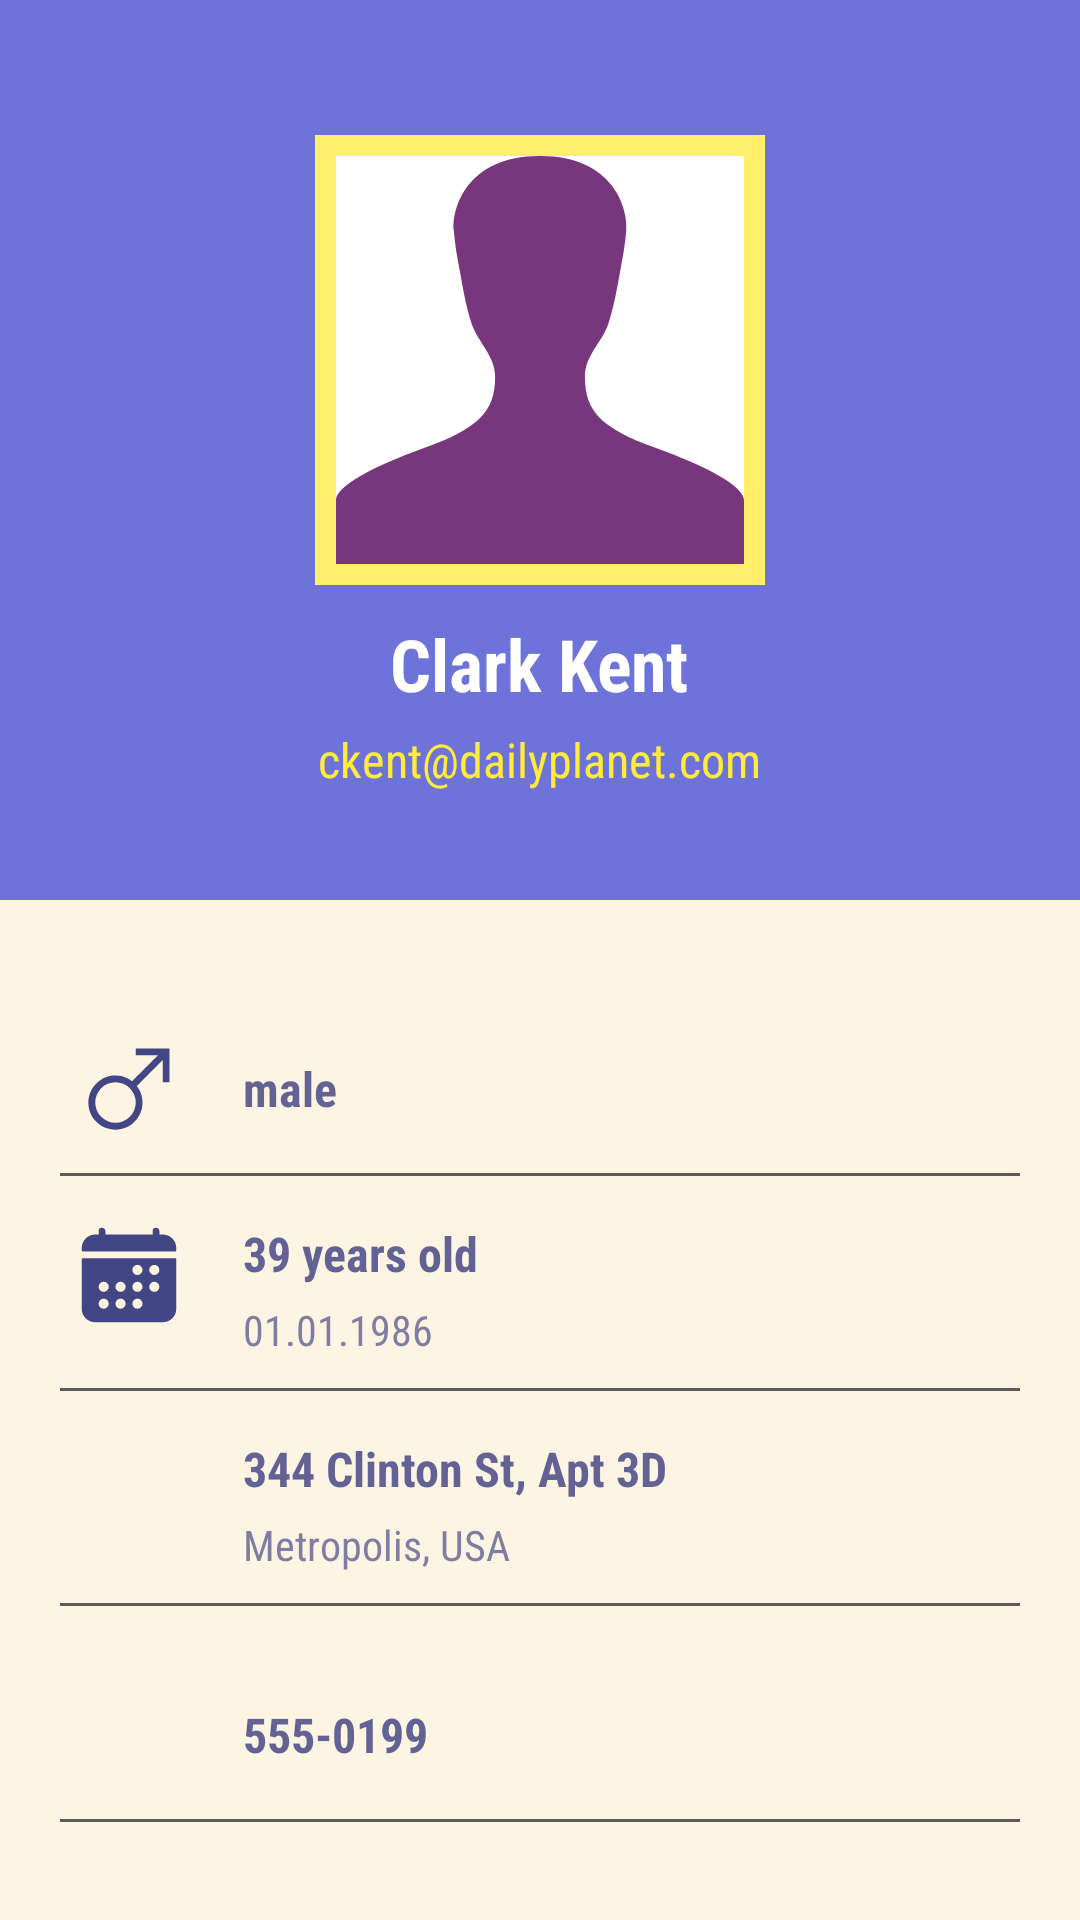

Icon click points for this 1080*1920 phone screenshot, format point (x, y):
dob calendar: point (129, 1275)
